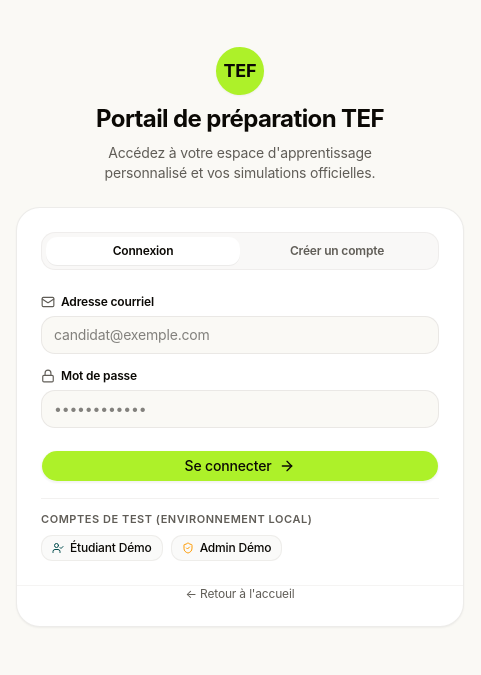
Test case: Authentication Flow & Session Management › displays error alert when login fails with invalid credentials
Type "wrong@test.com" into the field with placeholder "candidat@exemple.com" at (240, 335), box x1=41 y1=316 x2=439 y2=354
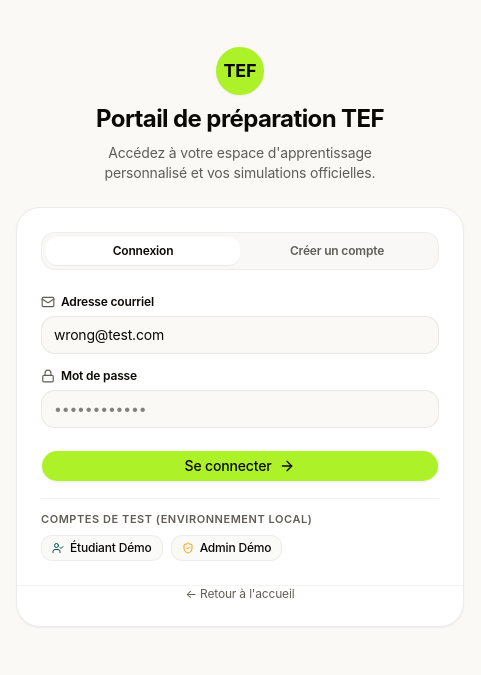
Type "WrongPass123!" into the password field with placeholder "••••••••••••" at (240, 409), box x1=41 y1=390 x2=439 y2=428
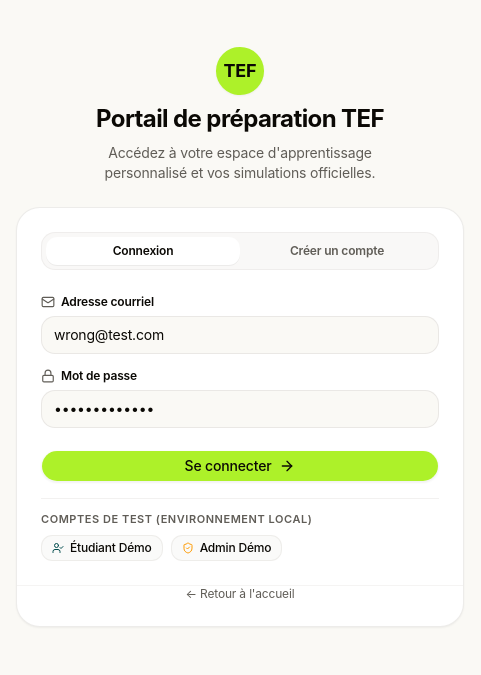
Click the button "Se connecter" at (240, 466), box x1=41 y1=450 x2=439 y2=482
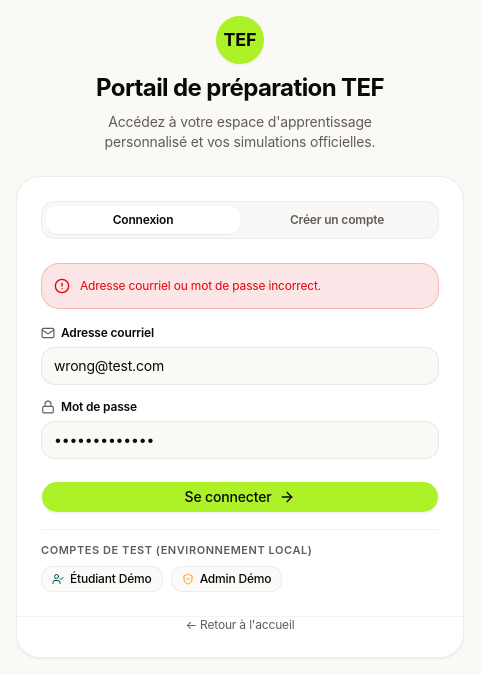
Now the text "Adresse courriel ou mot de passe incorrect." is shown, box x1=80 y1=276 x2=321 y2=296
